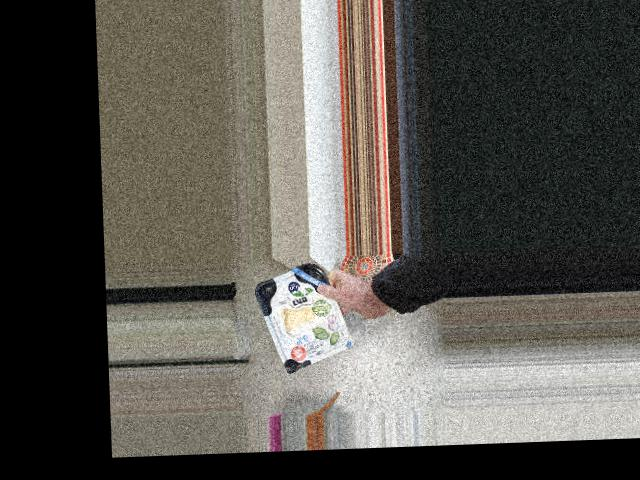cheese: (266, 273, 342, 363)
